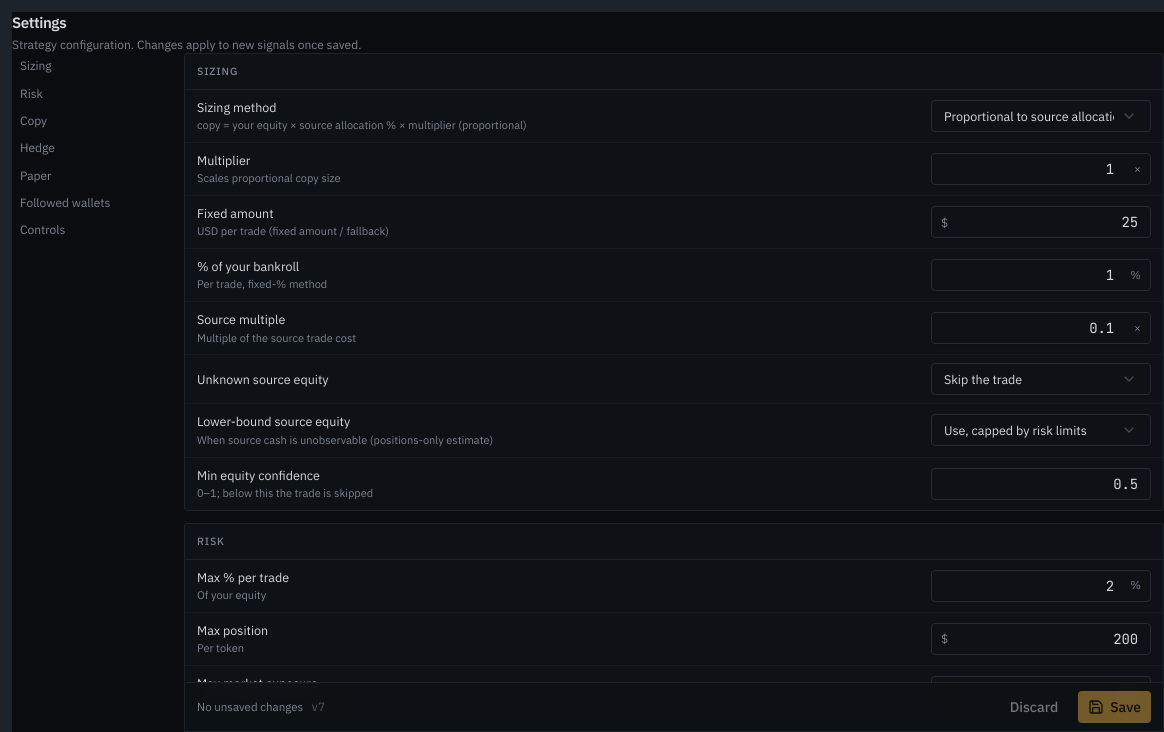
Test: SettingsPage form › maps 422 validation errors onto fields
Clear the field labelled "Max % per trade" at (1041, 586), box [931,570,1151,602]
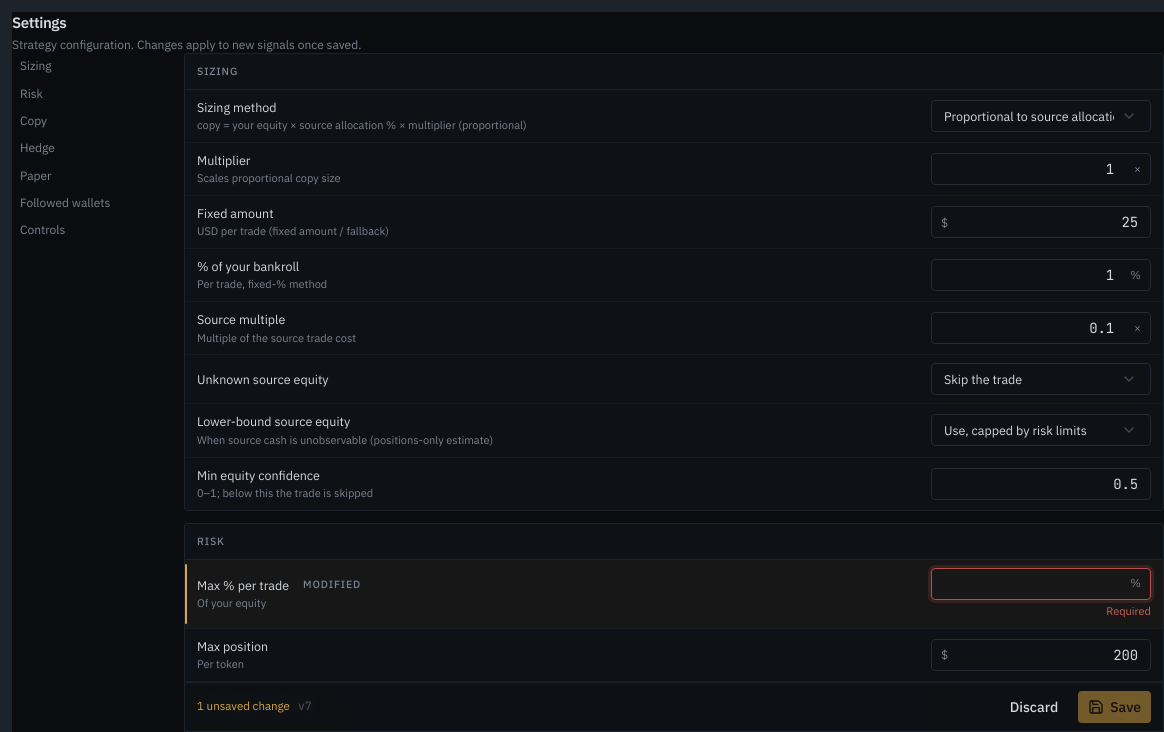
Type "50" into the field labelled "Max % per trade modified" at (1041, 584), box [931,568,1151,600]
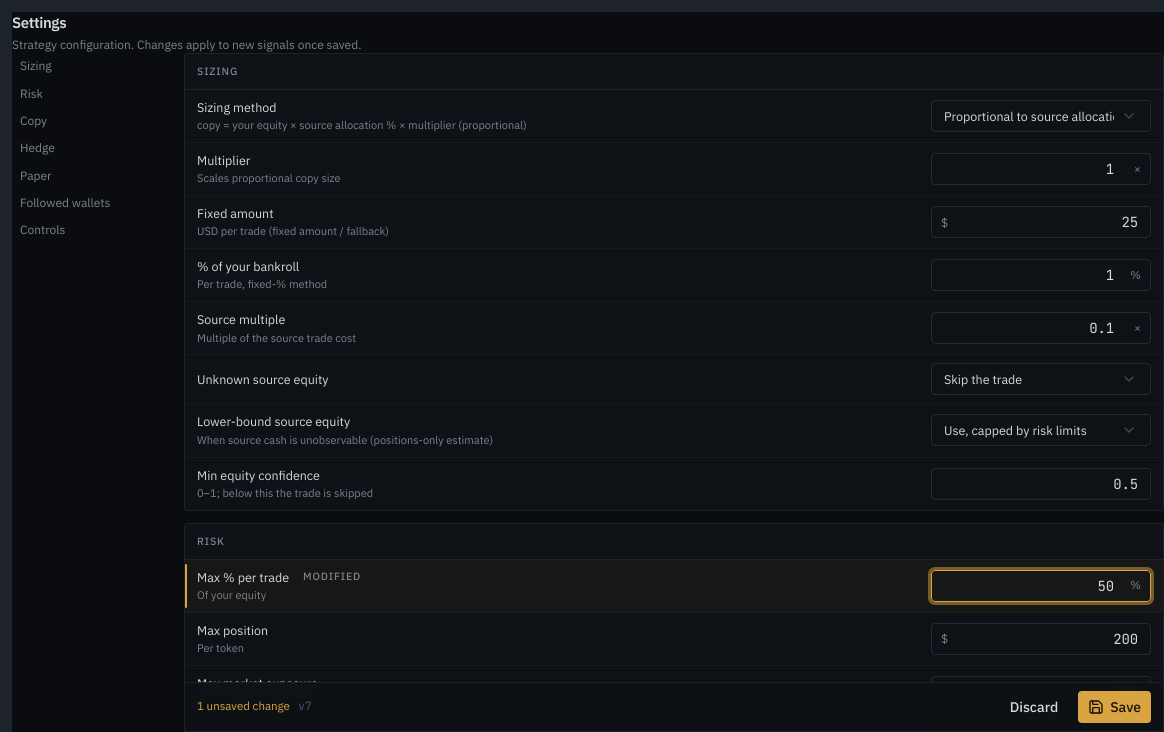
Click the button with test id "settings-save" at (1115, 707), box [1078,691,1151,723]
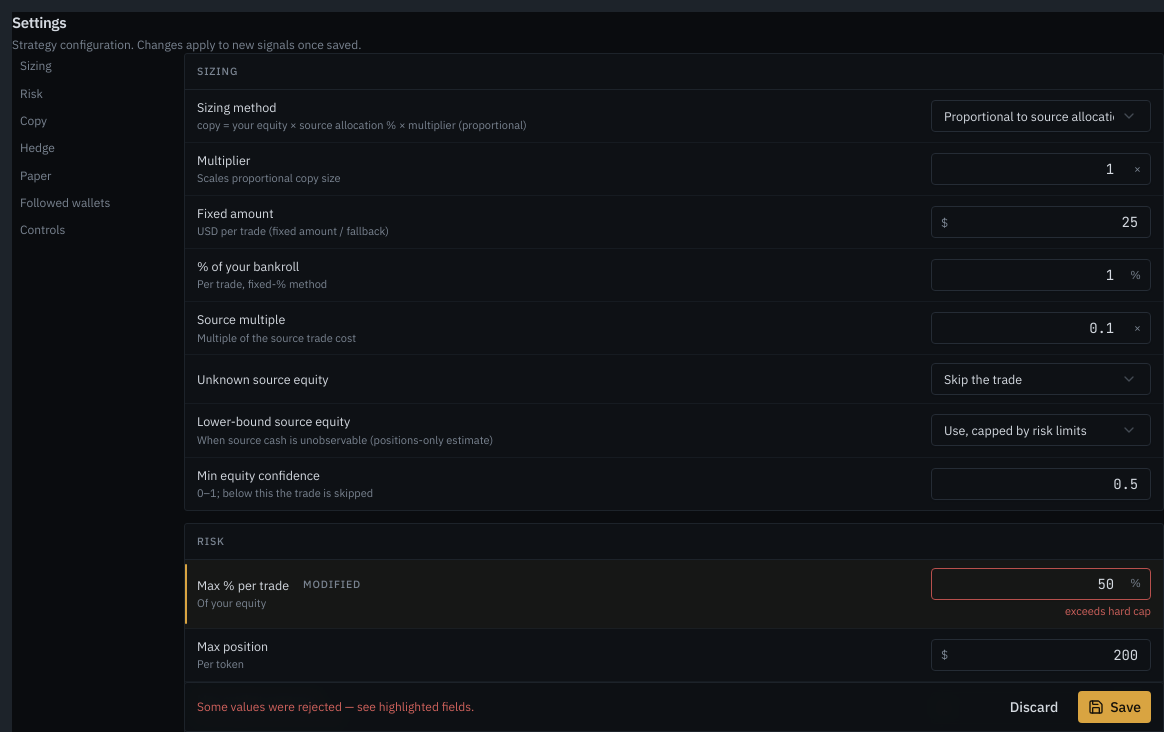
Check: the text "exceeds hard cap" is shown, box [1065,604,1151,618]
